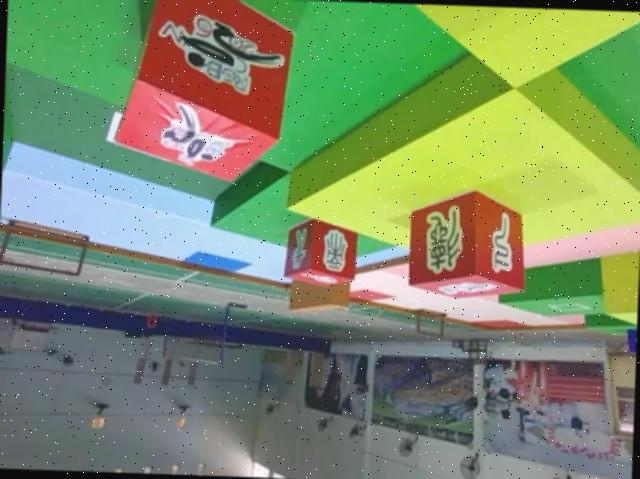R1: (107, 0, 301, 190)
R2 Fake: (406, 184, 532, 305), (282, 215, 357, 290)
